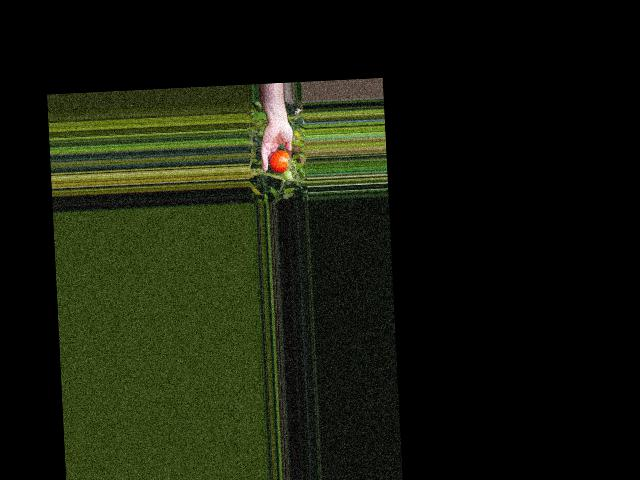tomato: (269, 149, 290, 173)
